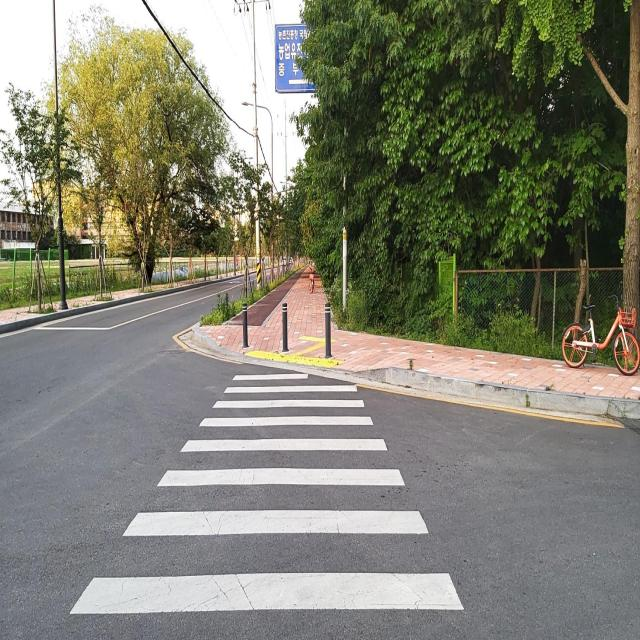횡단보도: (65, 367, 468, 619)
